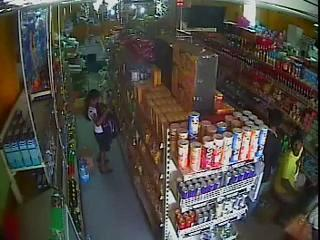shoplifting: (86, 91, 120, 174)
